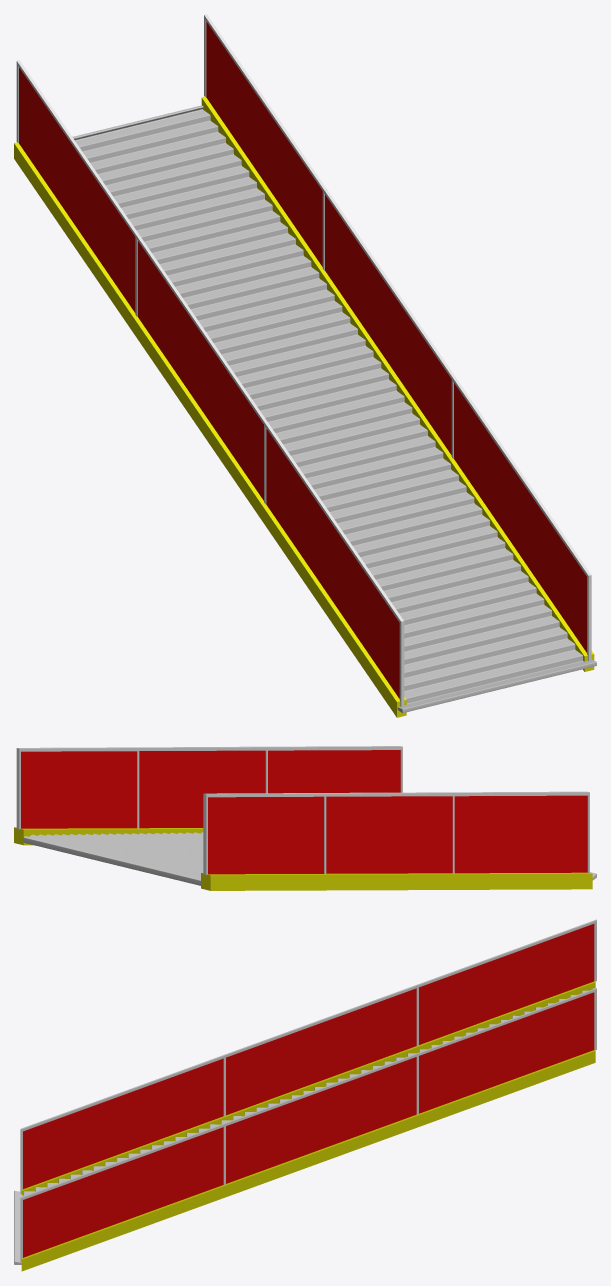
Rendered from stairs.fbx.
3 views of the same model, one above another, from view 1: azimuth 30°, elevation 25°; view 2: azimuth 150°, elevation 25°; view 3: azimuth 270°, elevation 25° (orthographic). The views are drawn at different scales.
Visible parts, largest first — view 1: pPlane10, polySurface167, polySurface168, pCube123; view 2: polySurface167, polySurface168, pPlane10, pCube123; view 3: polySurface167, polySurface168, pCube123, pPlane10.
Part boxes in pixels (<box>): pPlane10: <box>72,105,596,713</box>; polySurface167: <box>19,21,586,698</box>; polySurface168: <box>14,96,594,717</box>; pCube123: <box>16,14,591,706</box>; polySurface167: <box>21,750,587,874</box>; polySurface168: <box>14,827,592,890</box>; pPlane10: <box>23,832,596,885</box>; pCube123: <box>16,746,589,875</box>; polySurface167: <box>23,924,594,1257</box>; polySurface168: <box>21,981,595,1271</box>; pCube123: <box>20,919,596,1262</box>; pPlane10: <box>14,988,594,1264</box>.
Bounding box in the file's own units: 16.83 × 30.61 × 57.47.
